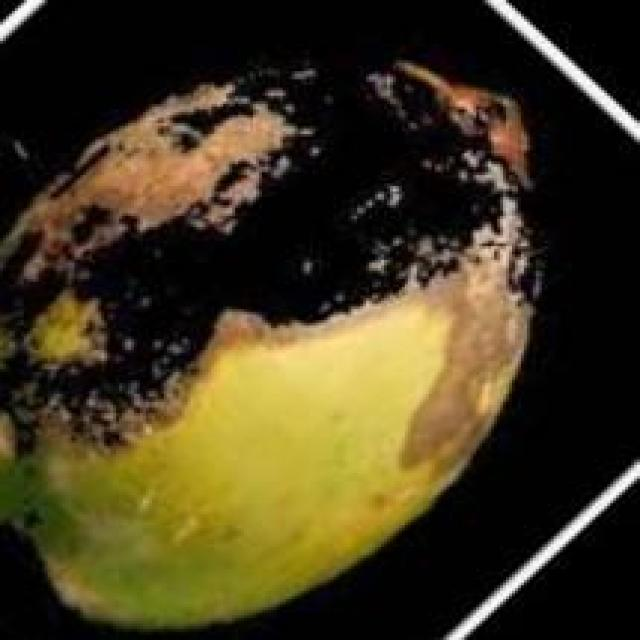damaged: (0, 60, 545, 626)
